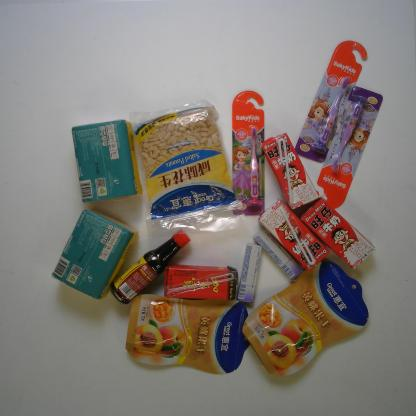Candy: (252, 226, 303, 282), (234, 244, 262, 302)
Dried Fruit: (127, 99, 248, 236), (242, 262, 369, 378), (125, 294, 253, 374)
Drink: (164, 264, 238, 300)
Milk: (299, 197, 375, 271), (258, 198, 330, 271), (262, 132, 320, 210)
Personal Hygiene: (293, 40, 368, 163), (311, 87, 383, 211), (232, 90, 265, 216)
Seasoner: (108, 229, 190, 305)
Tissue: (51, 209, 138, 301), (71, 118, 144, 204)
